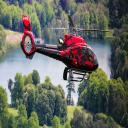helicopter: (21, 11, 115, 87)
